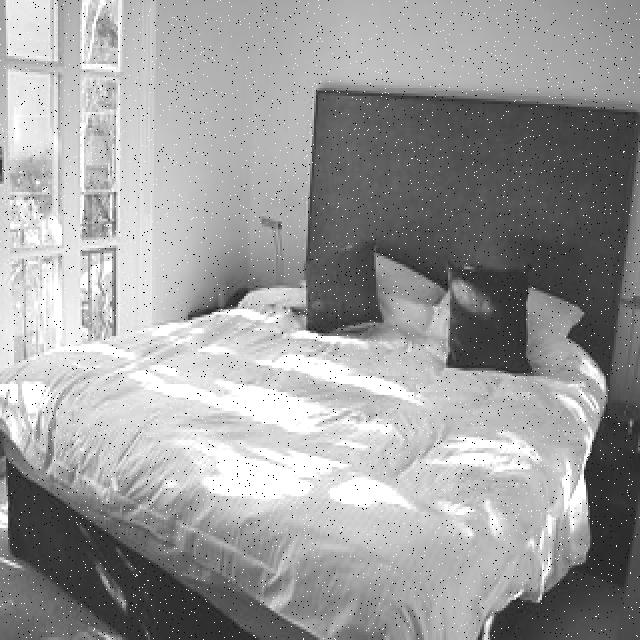bed: (5, 92, 635, 628)
